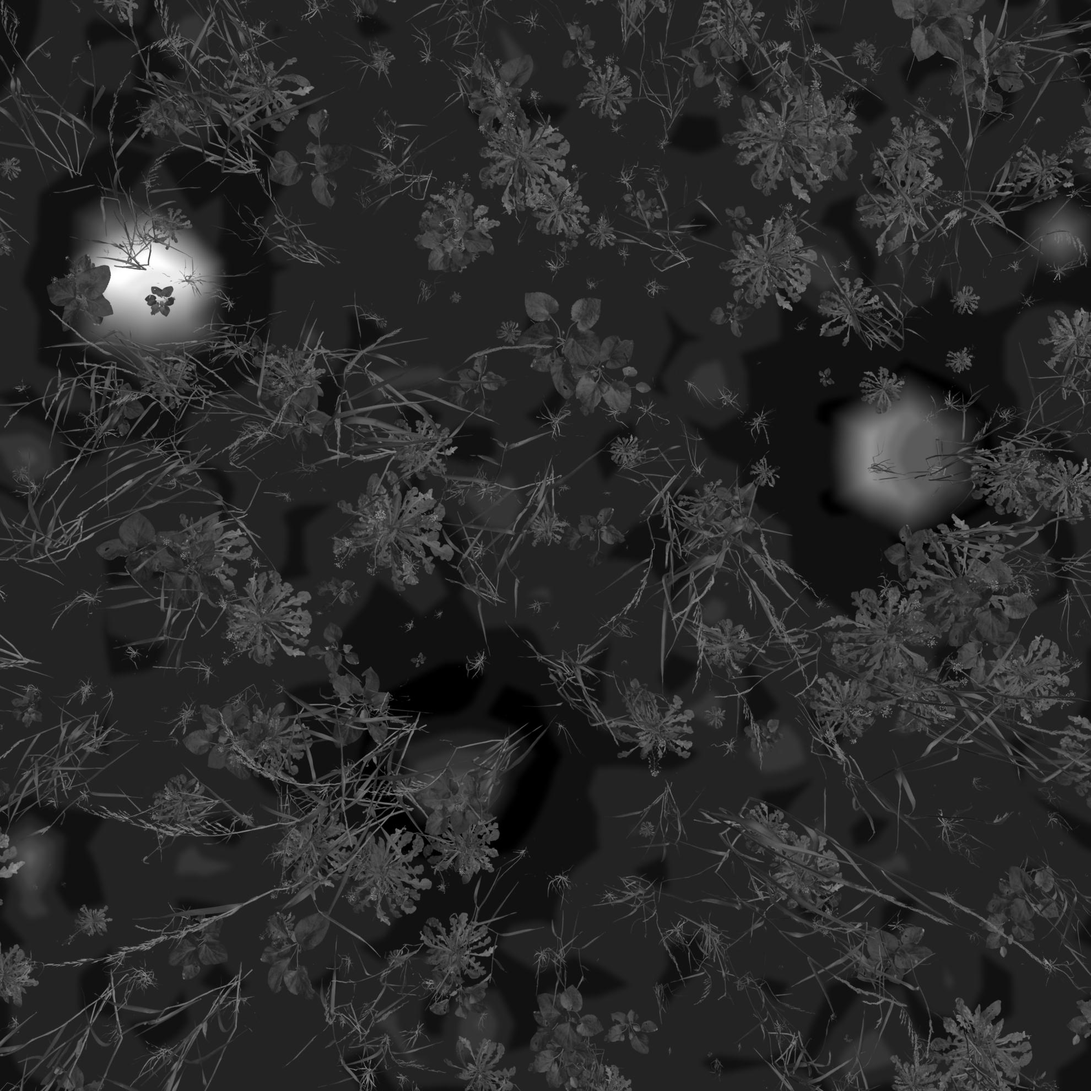landmine: (814, 370, 979, 545), (60, 206, 223, 362), (392, 709, 528, 841)
